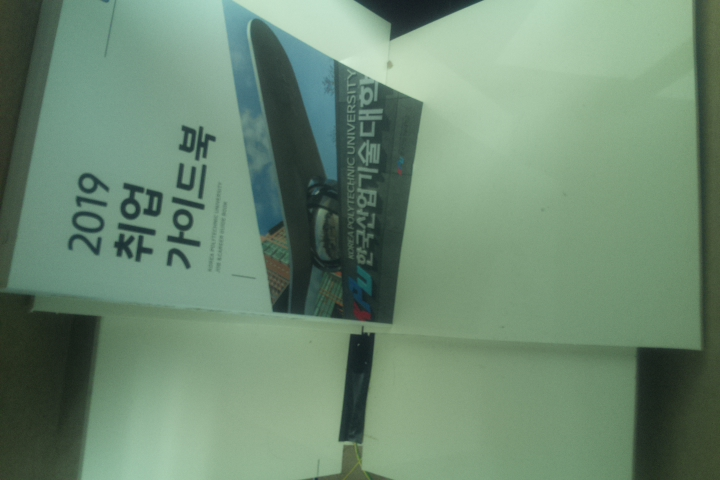book: (1, 1, 426, 330)
